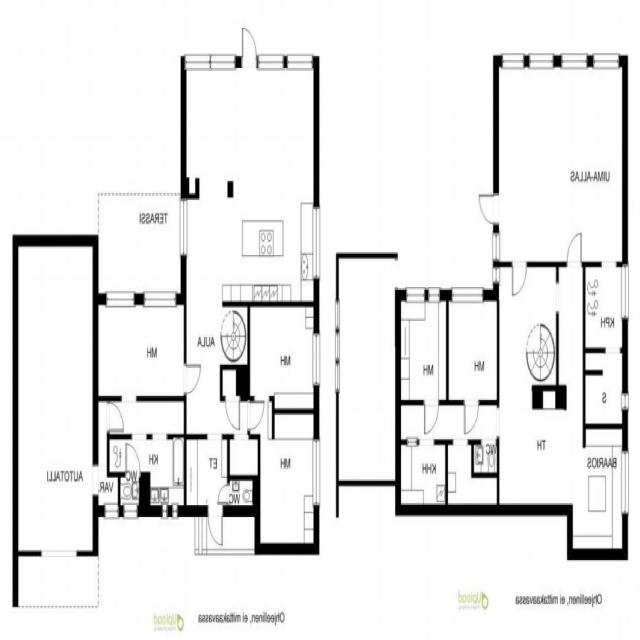door: (242, 27, 257, 68), (479, 195, 499, 224), (208, 506, 222, 544), (184, 365, 201, 394), (108, 403, 124, 432), (464, 400, 478, 433), (424, 400, 438, 433), (226, 396, 240, 429), (568, 234, 582, 266), (248, 402, 264, 430), (126, 445, 139, 477), (513, 262, 526, 293), (218, 485, 230, 503)
